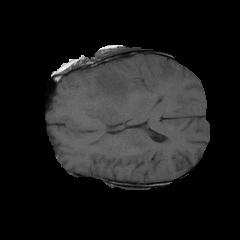glioma: (67, 66, 133, 135)
